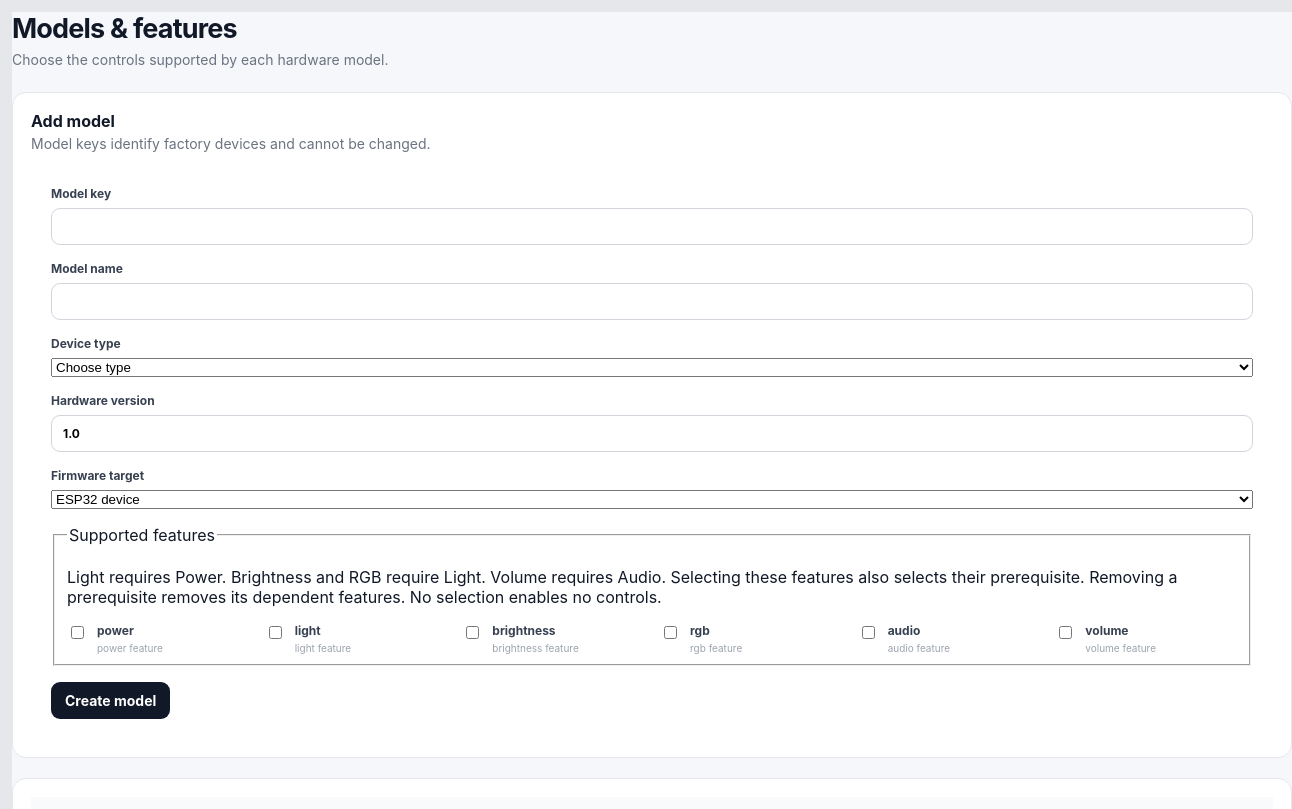
Test case: selecting color includes light and power and removing power removes dependents
Step 1. Click the checkbox labelled "rgb" → (670, 632), box x1=664 y1=626 x2=677 y2=639
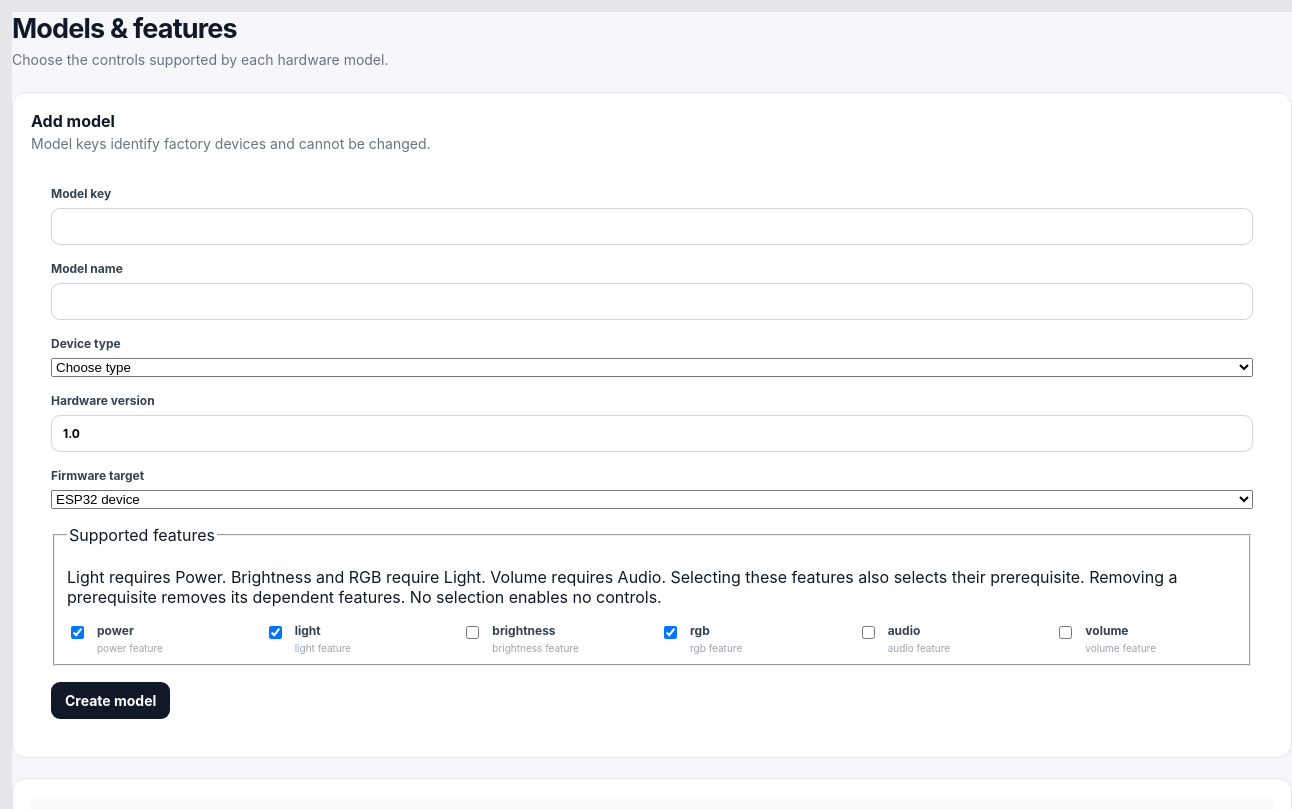
Now the checkbox labelled "light" is checked, box x1=269 y1=626 x2=282 y2=639
Now the checkbox labelled "power" is checked
Step 2. Click the checkbox labelled "power" → (78, 632), box x1=71 y1=626 x2=84 y2=639
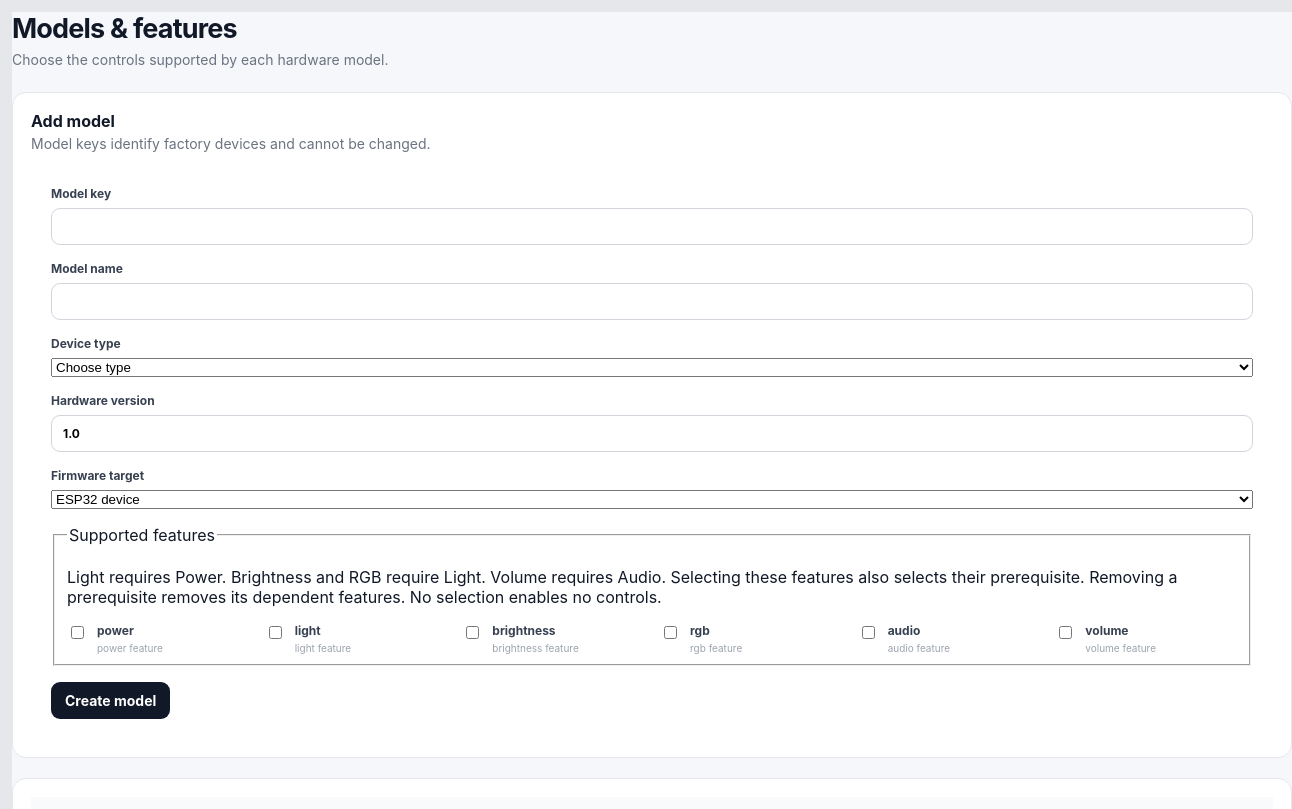
Now the checkbox labelled "rgb" is not checked, box x1=664 y1=626 x2=677 y2=639
Now the checkbox labelled "light" is not checked, box x1=269 y1=626 x2=282 y2=639
